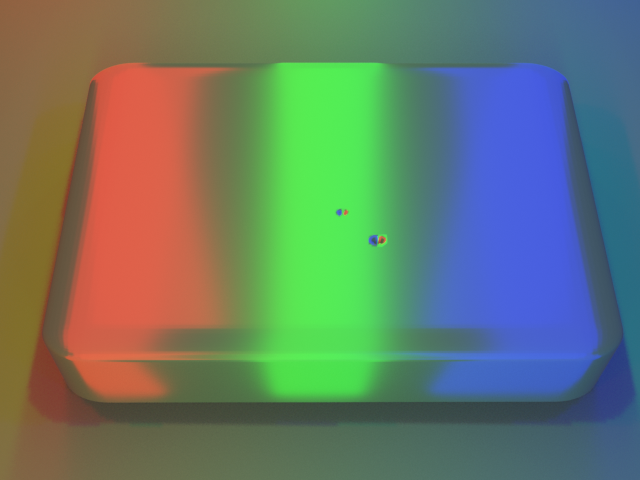dent: (365, 221, 402, 264), (324, 196, 361, 227)
